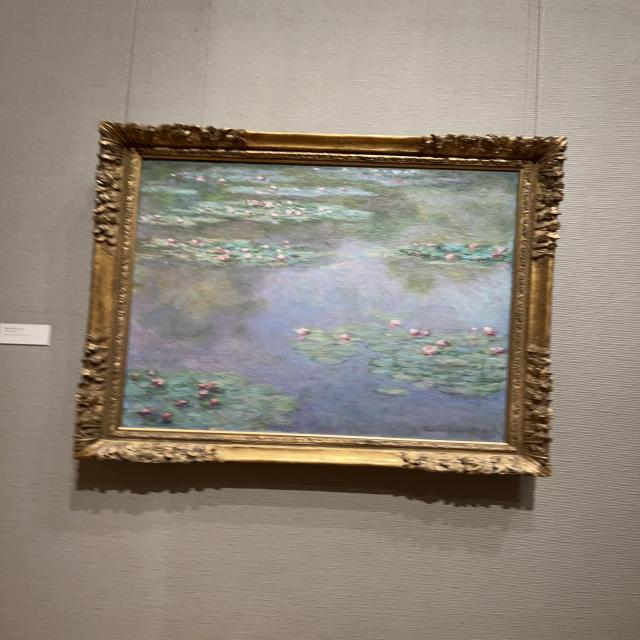lilies: (133, 165, 513, 437)
